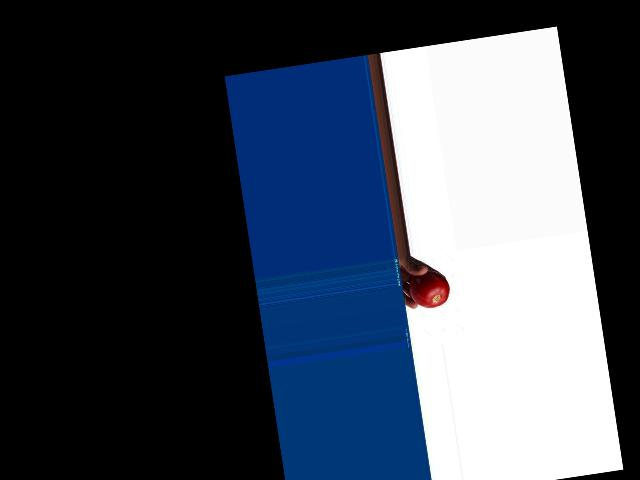tomato: (406, 267, 451, 311)
